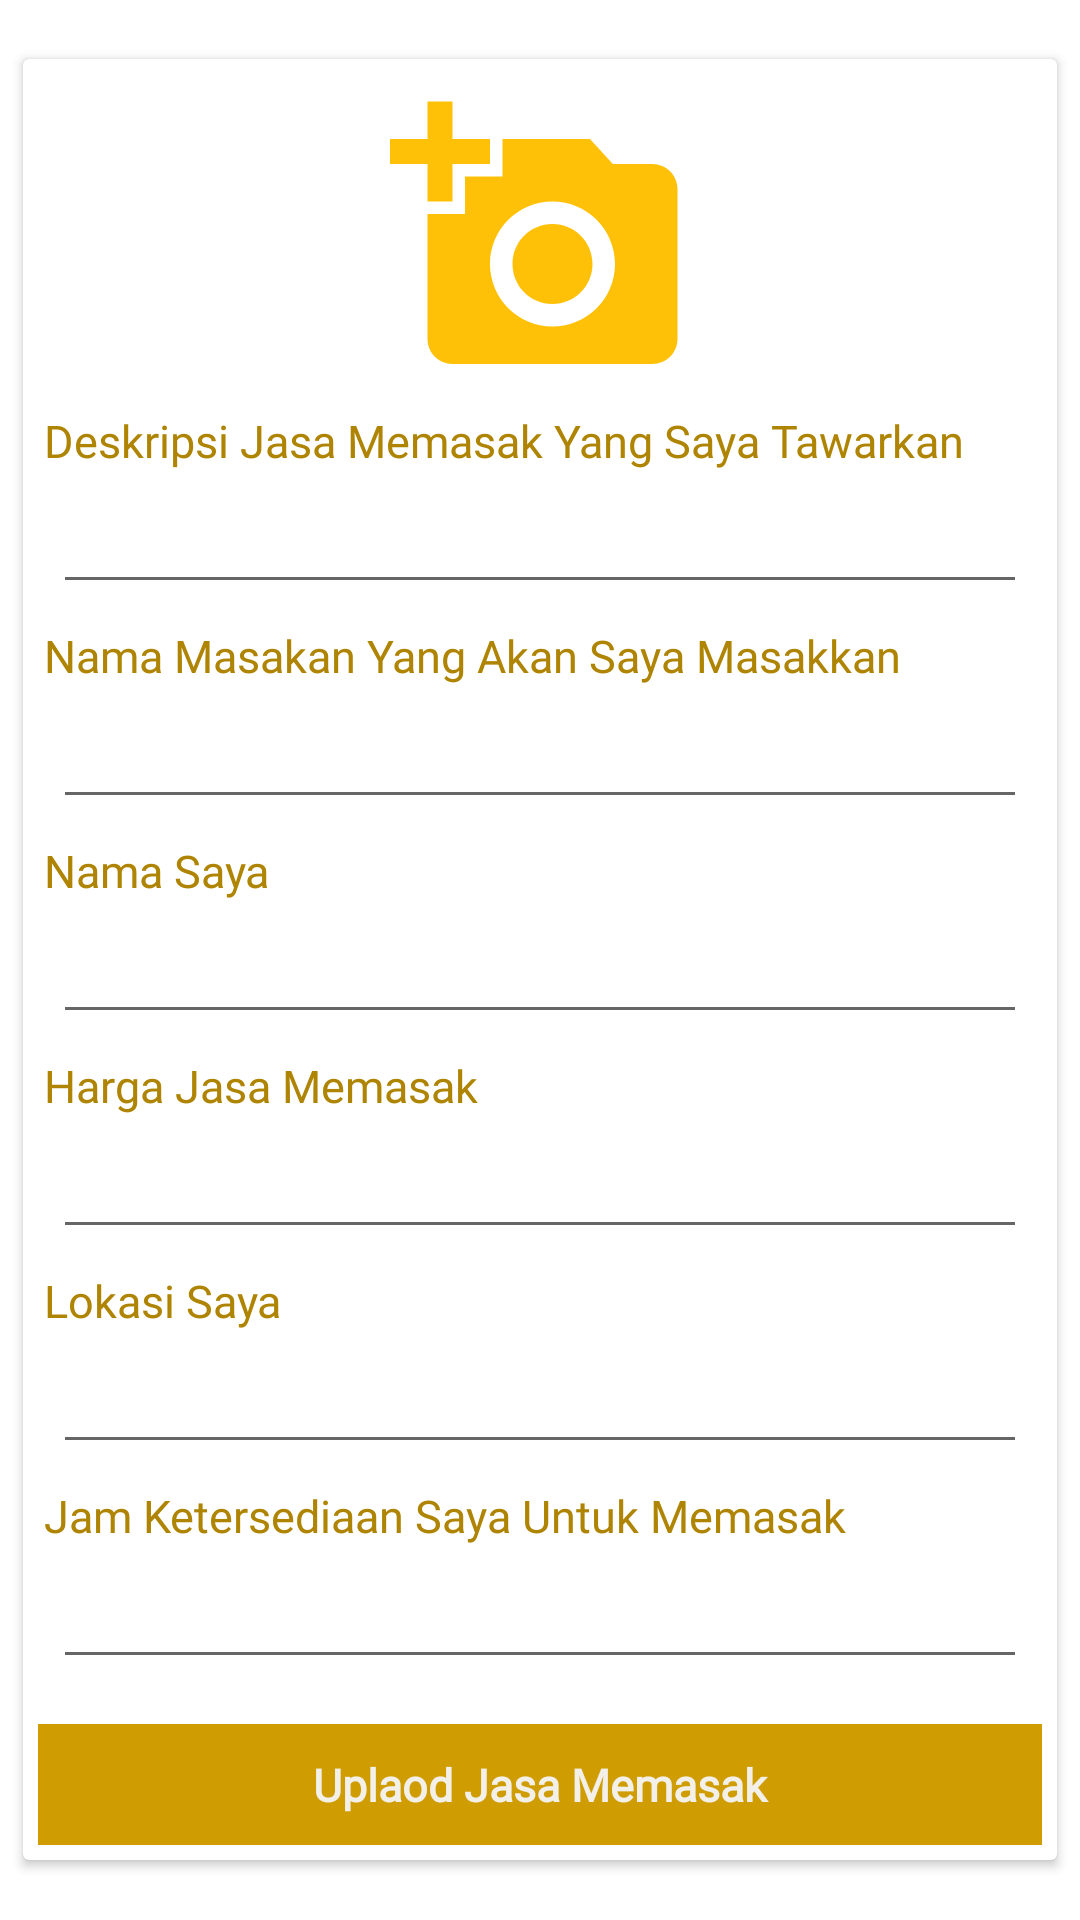

Locate icon controls on the screen. Image size 1080 × 1920, boxes as (x1, y1, x2, y2).
add photo: (390, 101, 678, 364)
